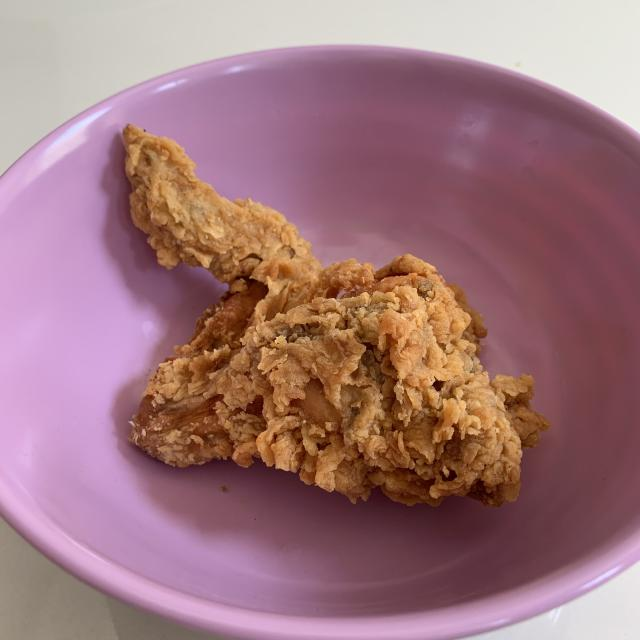Frango: (119, 117, 539, 511)
